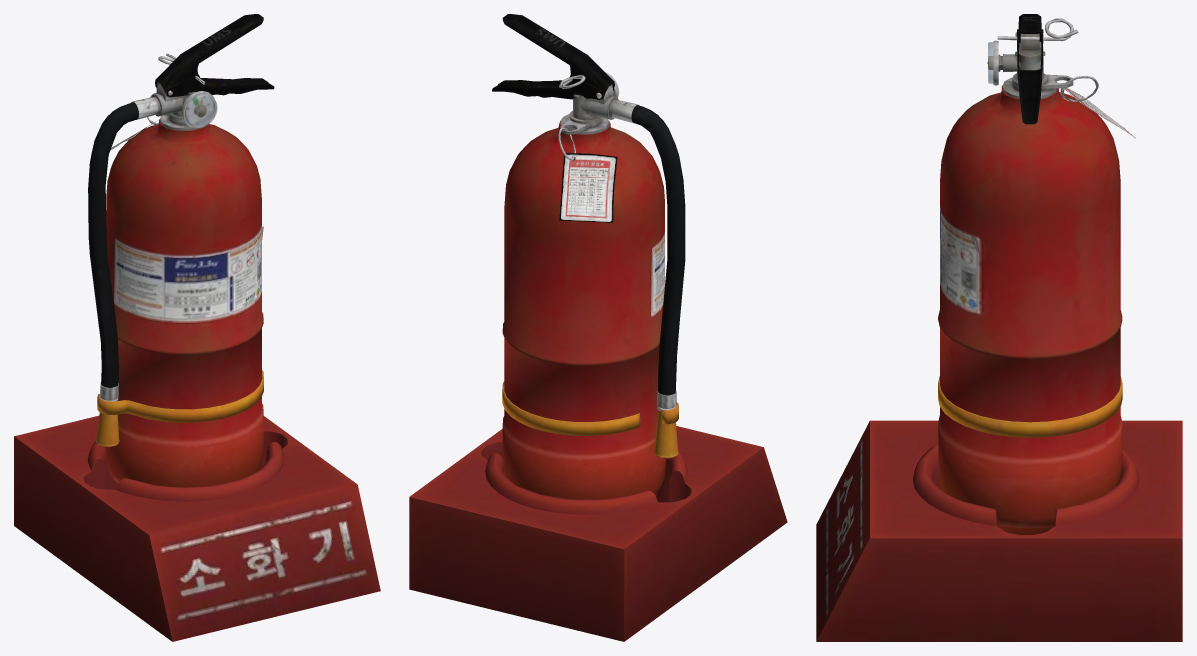
Rendered from extinguisher.glb.
The picture shows the model from 3 angles, left to right: view 1: azimuth 30°, elevation 25°; view 2: azimuth 150°, elevation 25°; view 3: azimuth 270°, elevation 25°; orthographic projection. The views are drawn at different scales.
Parts seen in each view (by area): view 1: korean_fire_extinguisher_01; view 2: korean_fire_extinguisher_01; view 3: korean_fire_extinguisher_01.
Part boxes in pixels (left/top/right/bottom): korean_fire_extinguisher_01: left=14, top=14, right=380, bottom=641; korean_fire_extinguisher_01: left=409, top=14, right=787, bottom=641; korean_fire_extinguisher_01: left=816, top=14, right=1182, bottom=641.
Bounding box in the file's own units: 0.279 × 0.6591 × 0.3674.
3 materials, 3 textured.
